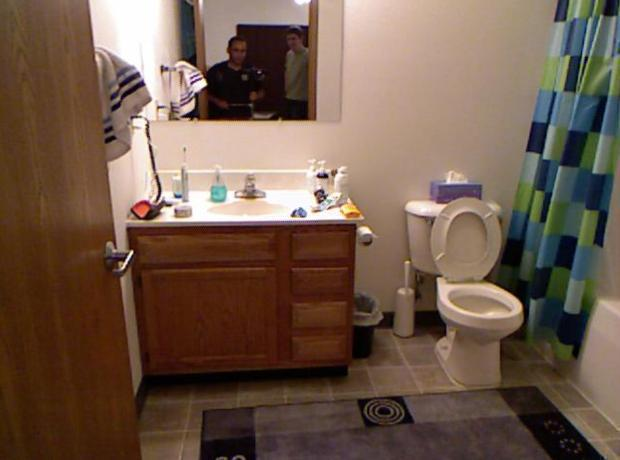Bote de Basura: (349, 285, 384, 359)
Ducha: (542, 7, 619, 397)
Lavamanos: (206, 161, 286, 228)
Sanitario: (403, 194, 522, 393)
